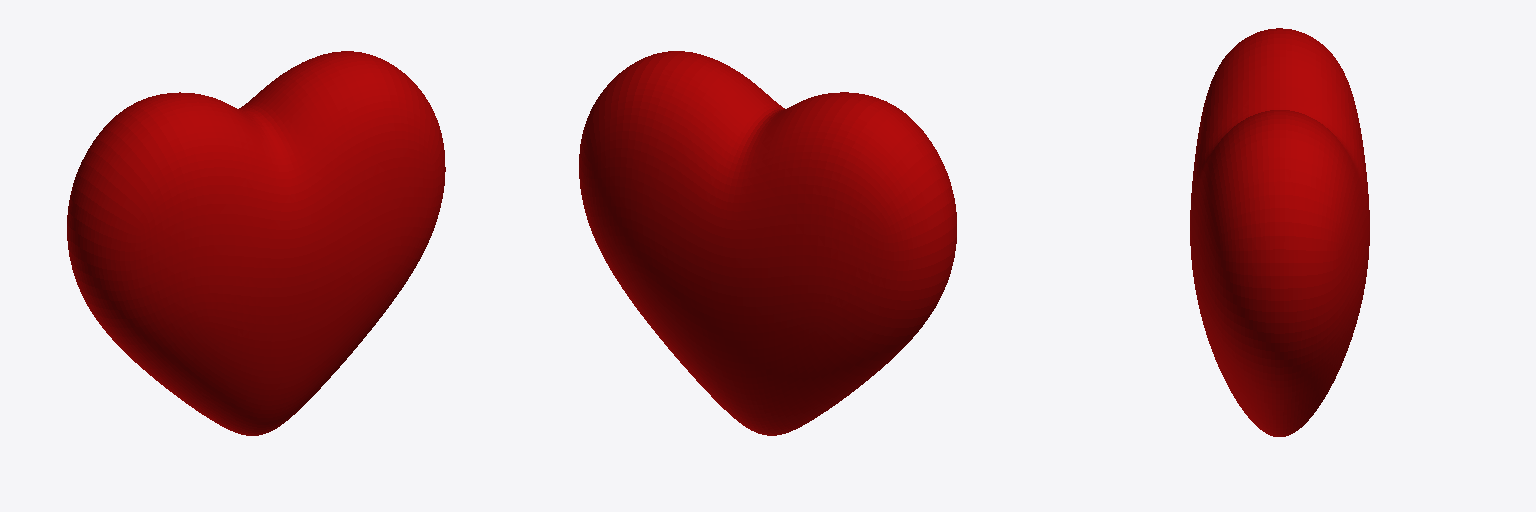
3 renders of one model, left to right at view 1: azimuth 30°, elevation 25°; view 2: azimuth 150°, elevation 25°; view 3: azimuth 270°, elevation 25°, orthographic.
Visible parts, largest first — view 1: 愛心; view 2: 愛心; view 3: 愛心.
Part boxes in pixels (x1,y1,x2,y2): 愛心: (67, 51, 445, 435); 愛心: (579, 51, 956, 435); 愛心: (1190, 28, 1369, 436).
Bounding box in the file's own units: 6.38 × 5.97 × 2.74.